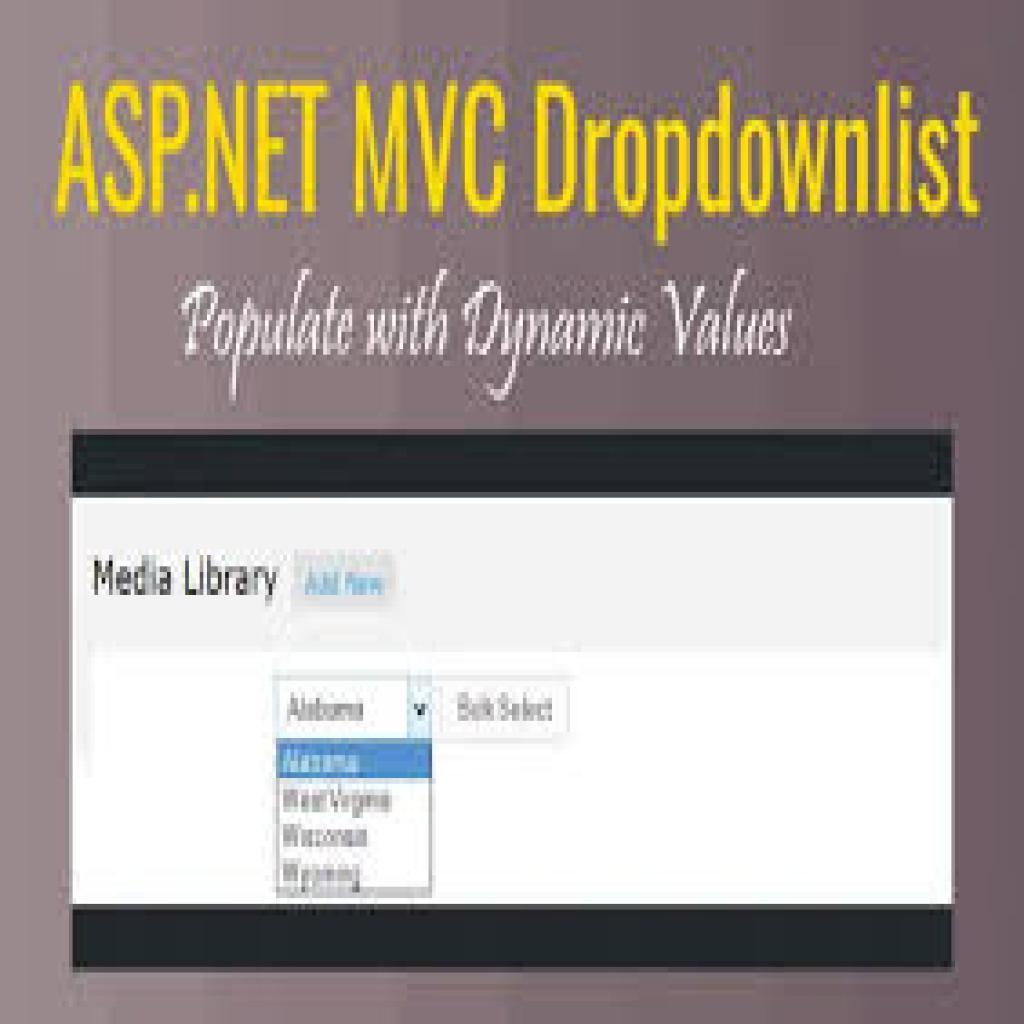button: (442, 675, 572, 741), (292, 555, 399, 609), (277, 744, 434, 780)
dropdown: (279, 674, 434, 741)
